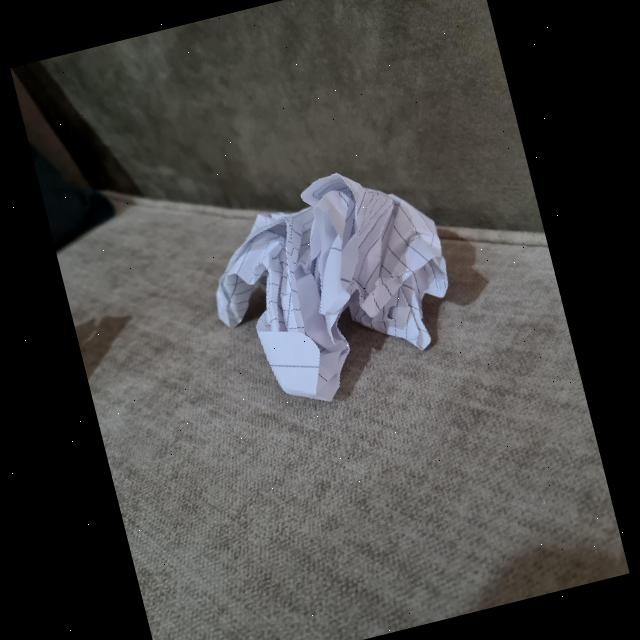trash: (192, 148, 474, 419)
